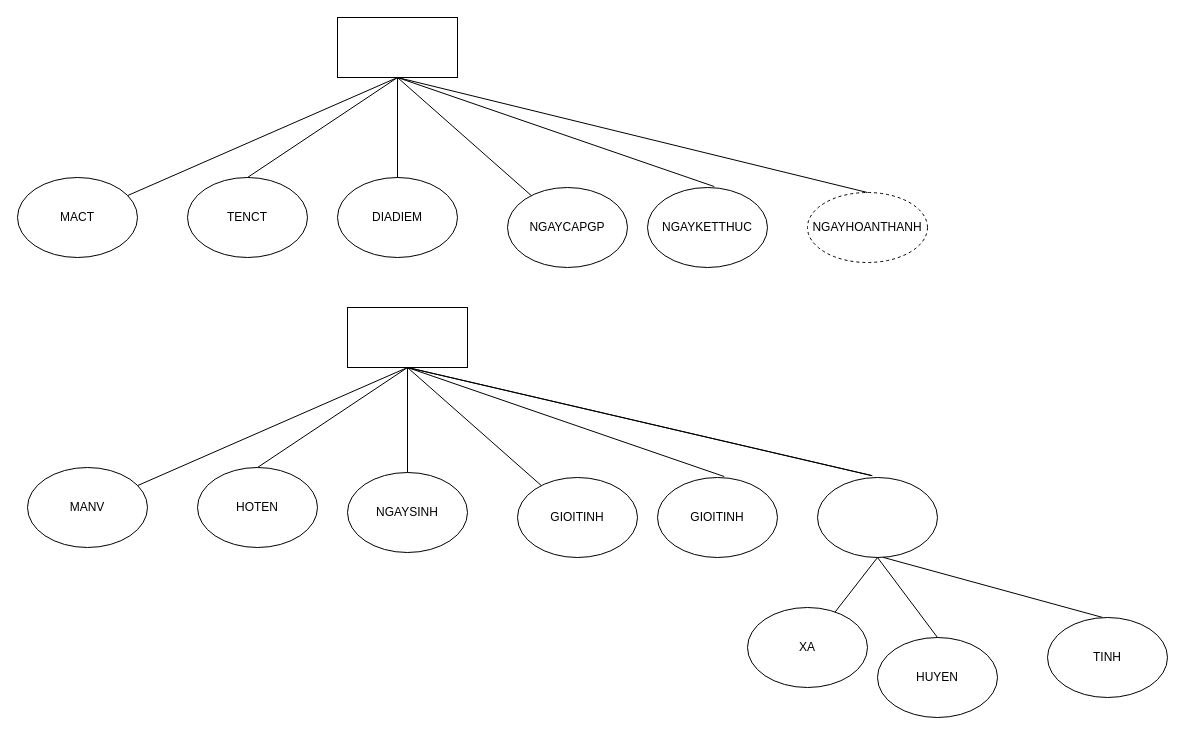
This 1185x735 diagram has some shape labels left out. Here are the shapes that lost their labels. From the top down, the box of each, then its label:
(336, 16, 458, 78): CONGTRINH
(346, 306, 468, 368): NHANVIEN
(816, 476, 938, 558): DIACHI
